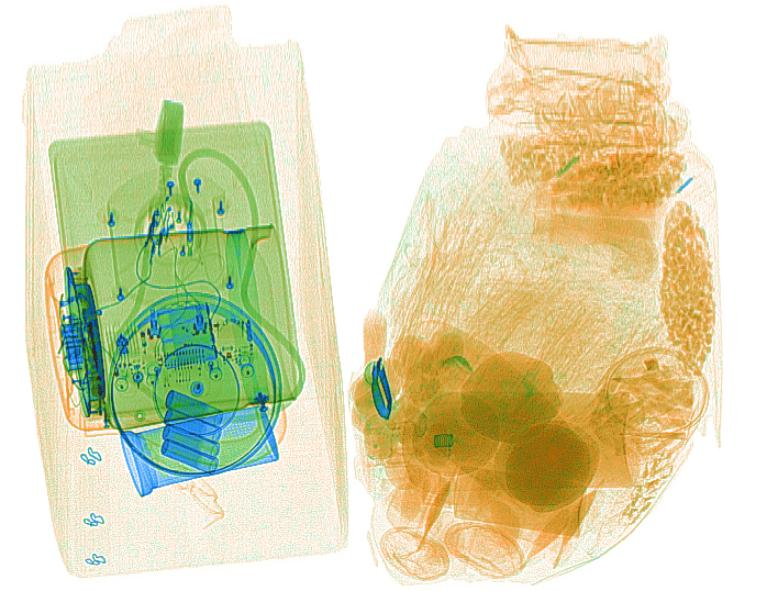battery: (159, 386, 224, 474), (153, 301, 220, 370)
plasticBottleWithaNozzle: (361, 385, 645, 493)
